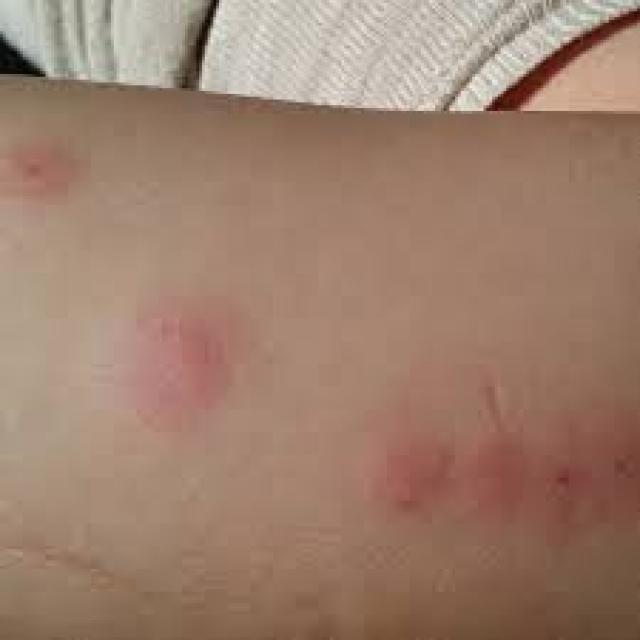kan emici bocekler: (389, 429, 624, 538), (148, 302, 240, 437), (11, 123, 84, 202)
